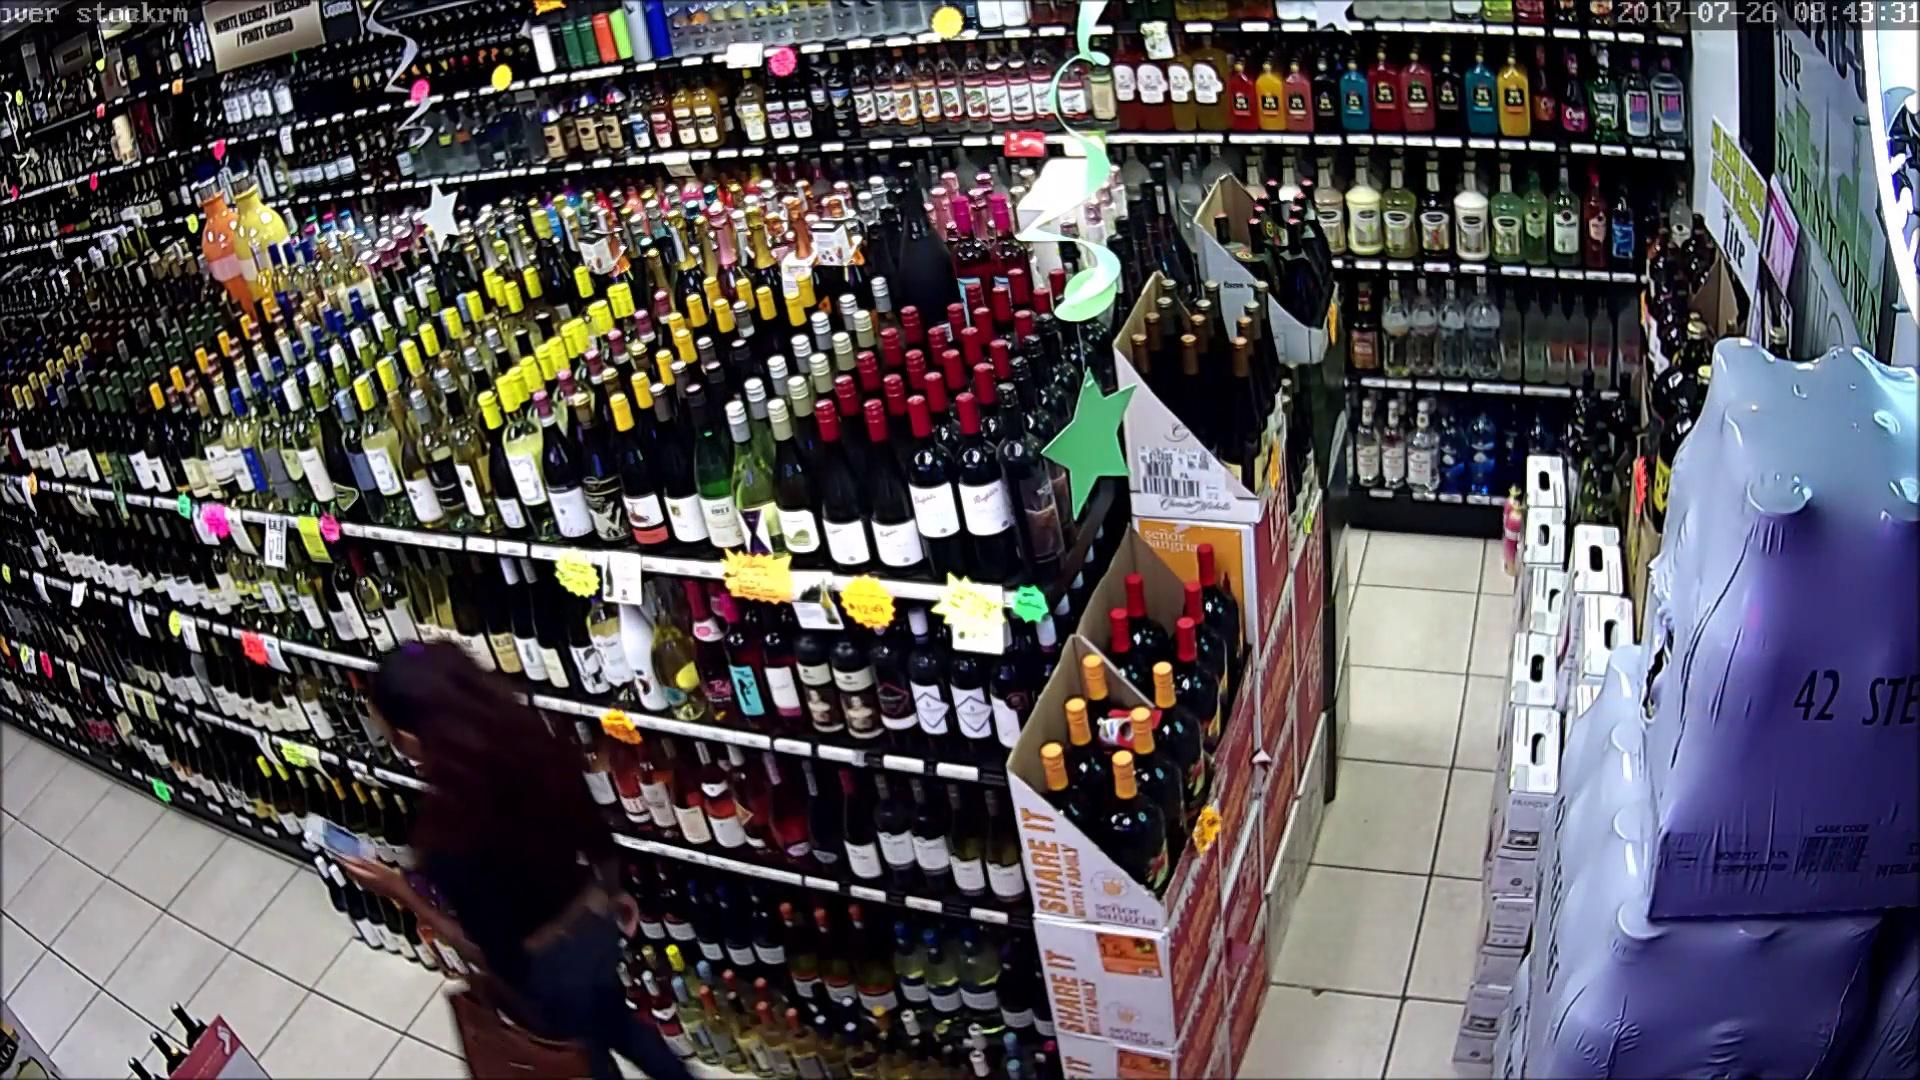Regular: (264, 600, 665, 1080)
